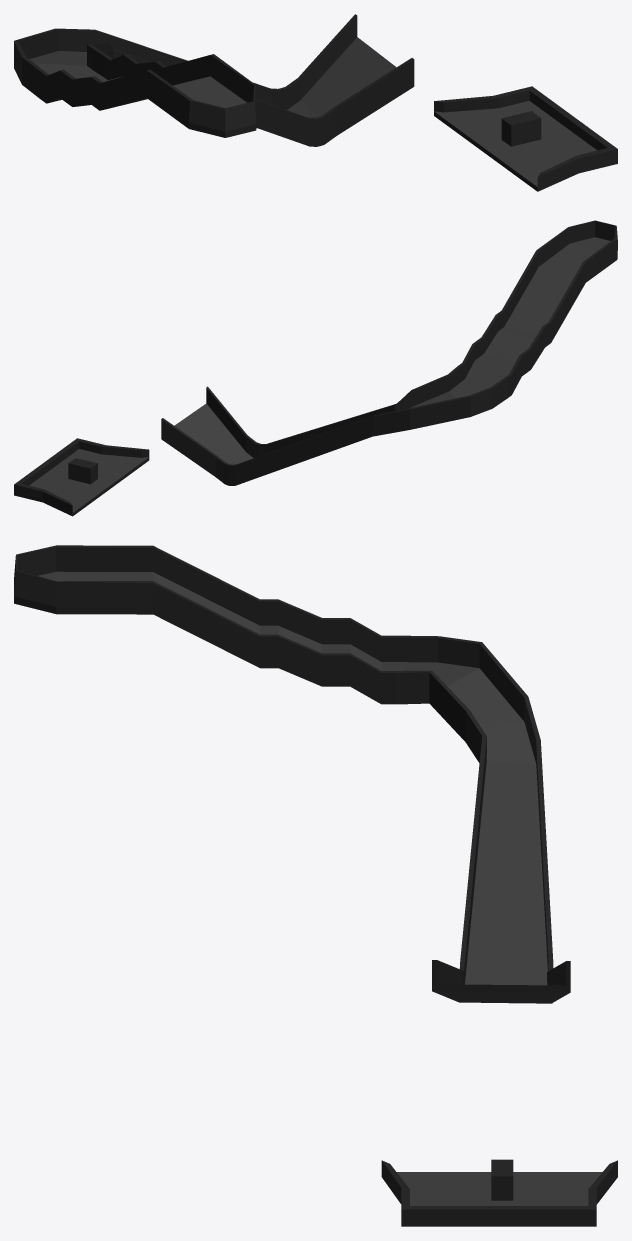
File: nazilevelupdated.FBX
The picture shows the model from 3 angles, top to bottom: view 1: azimuth 30°, elevation 25°; view 2: azimuth 150°, elevation 25°; view 3: azimuth 270°, elevation 25°; orthographic projection. The views are drawn at different scales.
Parts seen in each view (by area): view 1: road, landing; view 2: road, landing; view 3: road, landing.
Boxes of the visible parts, x1,y1,x2,y2 form: road: (14, 14, 414, 146); landing: (434, 86, 617, 191); road: (161, 220, 617, 485); landing: (14, 438, 149, 516); road: (14, 545, 570, 1003); landing: (381, 1159, 617, 1226).
Size of the model in its own units: 2422 by 1260 by 1916.
